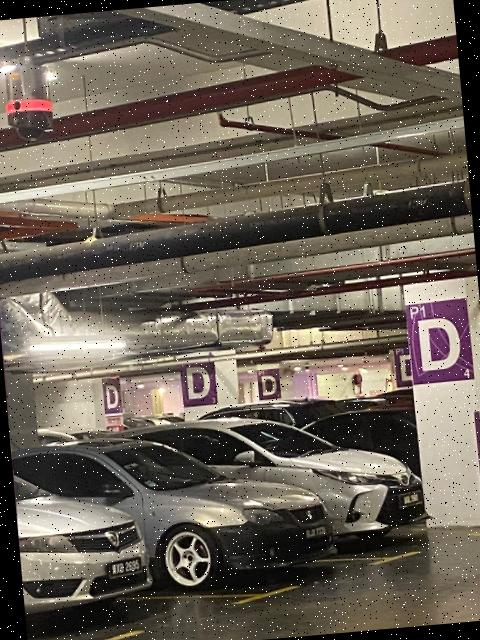License_Plate: (104, 556, 148, 581), (391, 489, 429, 512), (297, 523, 331, 546)
car: (22, 420, 344, 604), (151, 399, 435, 565), (13, 457, 161, 615)
